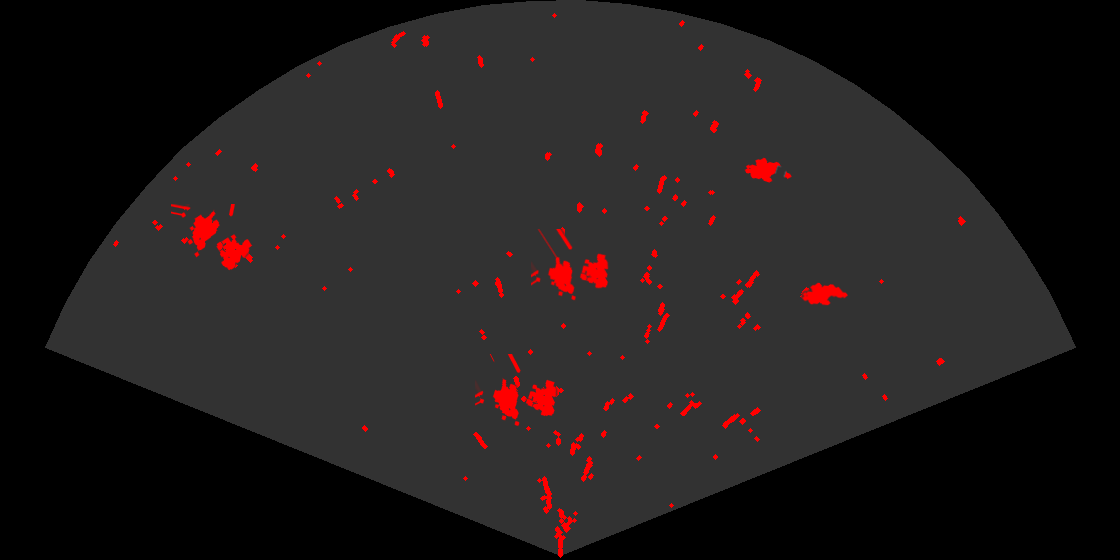AUV: (743, 156, 793, 184), (800, 281, 850, 307)
cage: (475, 354, 558, 428), (531, 229, 610, 302), (171, 204, 254, 272)
